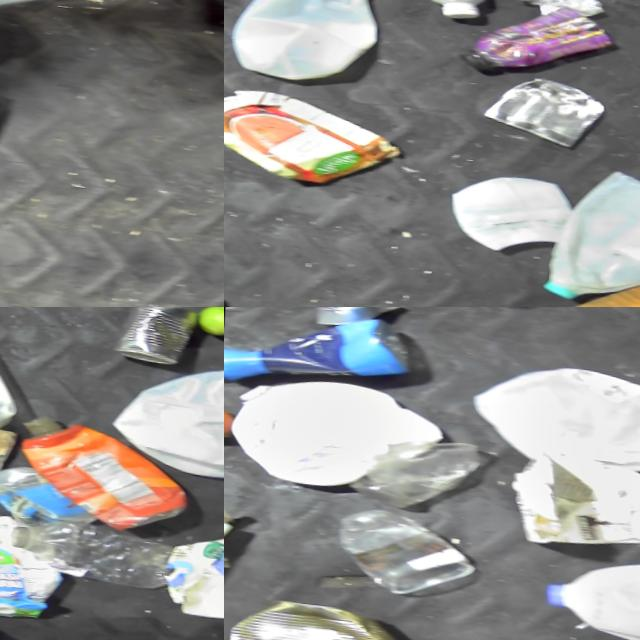can: (473, 71, 608, 154), (224, 589, 419, 640), (108, 307, 199, 371), (21, 628, 153, 640)
milk_jug: (225, 371, 446, 498), (457, 358, 640, 485), (100, 348, 224, 487), (529, 157, 640, 307), (224, 0, 382, 85), (530, 543, 640, 640)
non_white_jug: (5, 410, 200, 541), (224, 307, 418, 393)
plastic_bottle: (2, 517, 185, 596)
